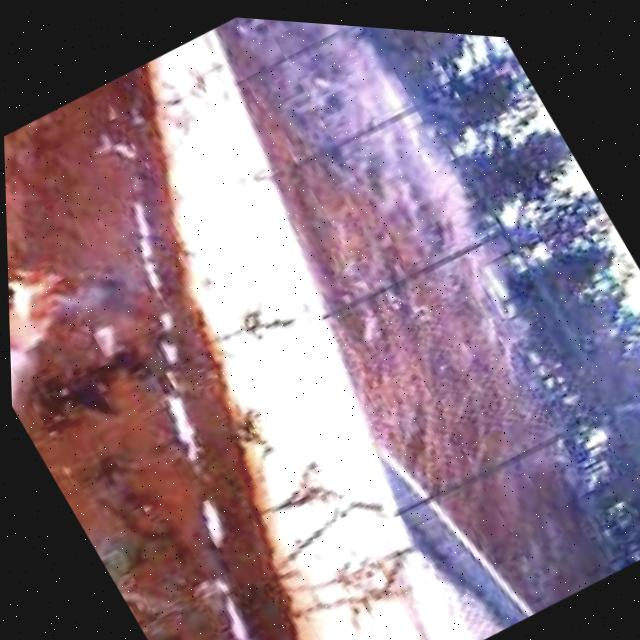Fire: (5, 224, 129, 379)
